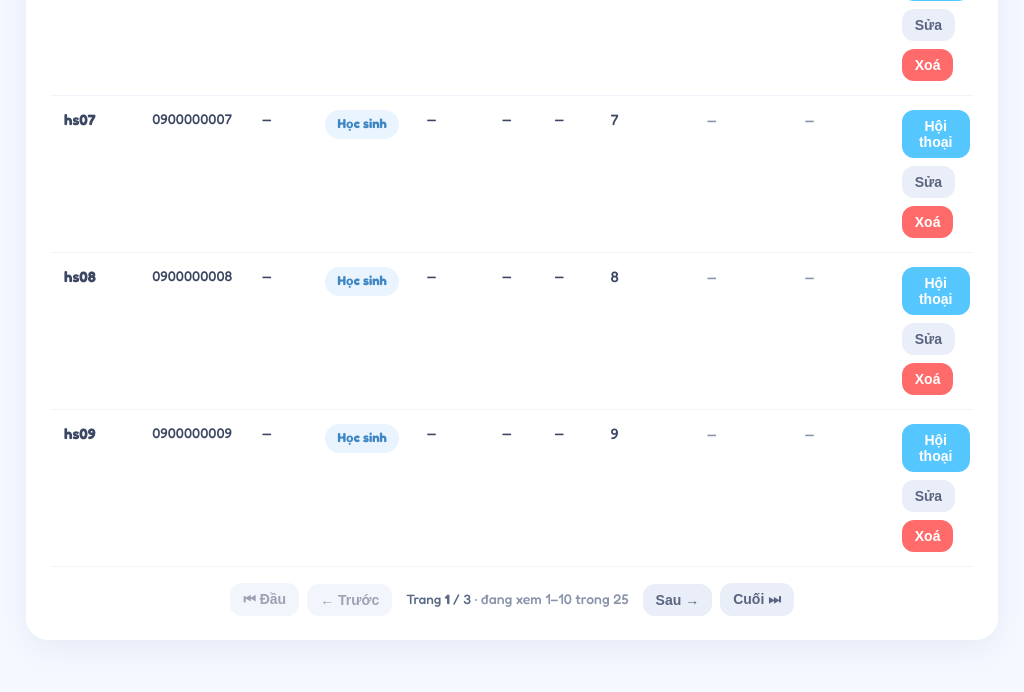
đổi cách xếp thì quay về trang đầu
The width and height of the screenshot is (1024, 692).
(page scrolled)
Click the button "Sau →" at (677, 600), box [643,584,712,616]
(page scrolled)
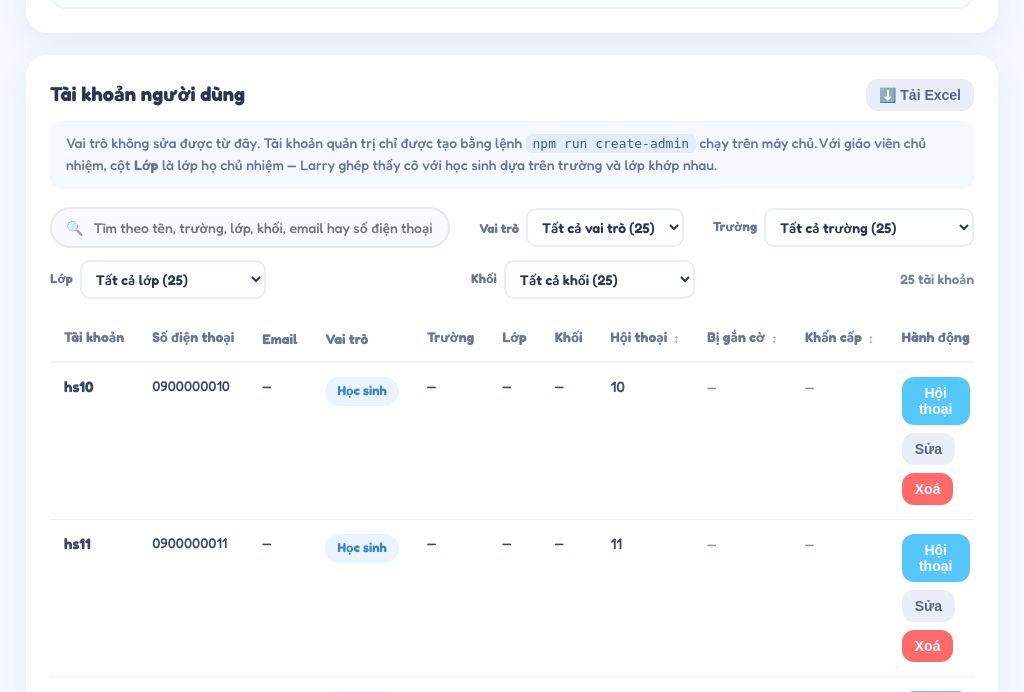
Click the button "Hội thoại ↕" at (645, 338), box [602,322,687,354]
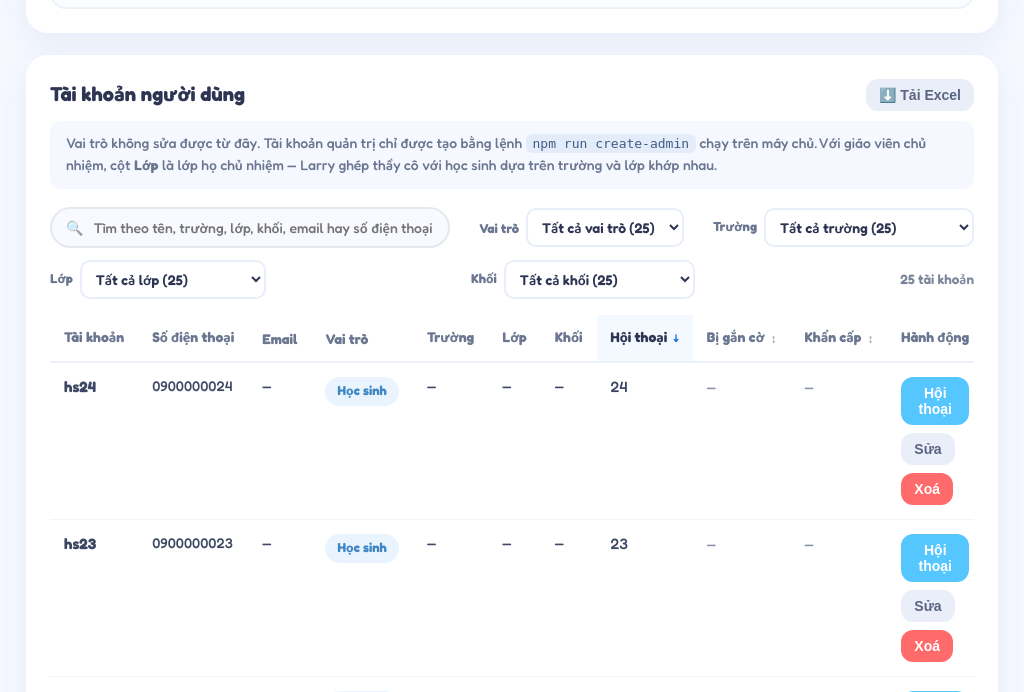
expect the text "hs24" is shown: met, box [64,377,96,396]
